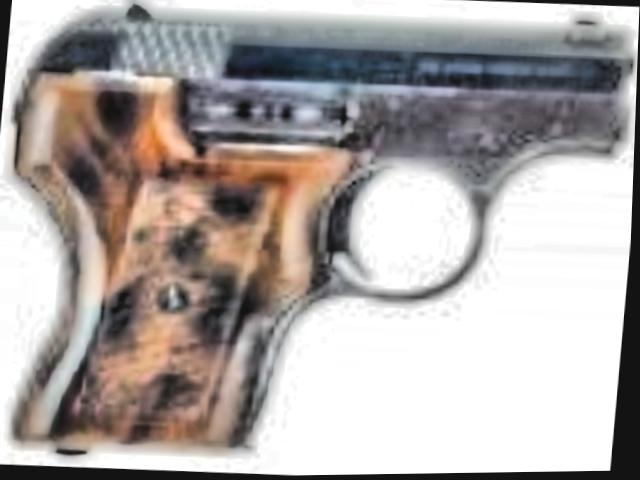pistol: (0, 0, 628, 471)
